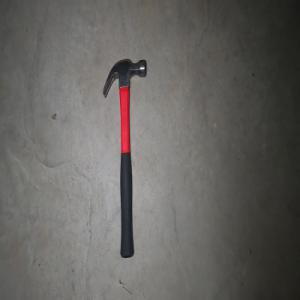Hammer: (102, 57, 146, 259)
